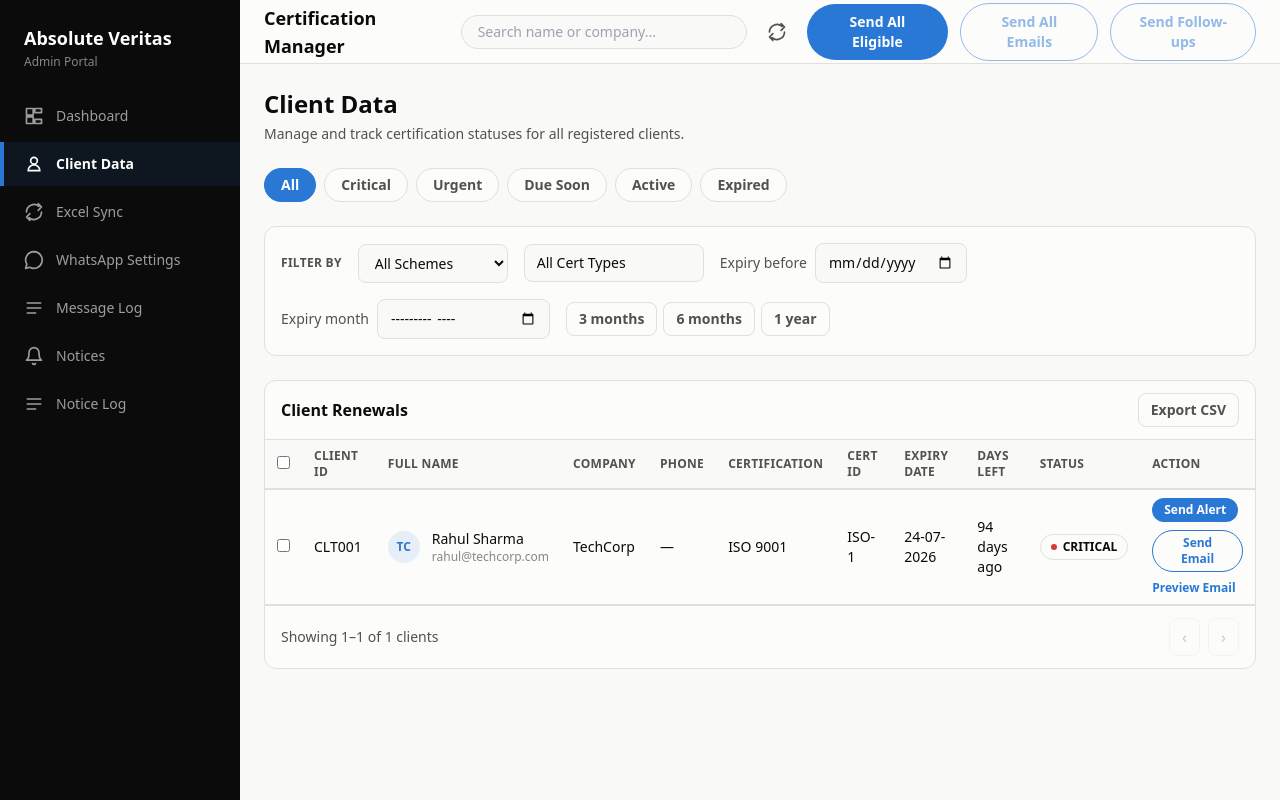
Scenario: App › sends selected clients and shows a summary toast after confirming
Expected: the text "Rahul Sharma" is shown, [432,529,524,548]
Click the checkbox named "Select Rahul Sharma".
click(284, 546)  # box [277,539,290,552]
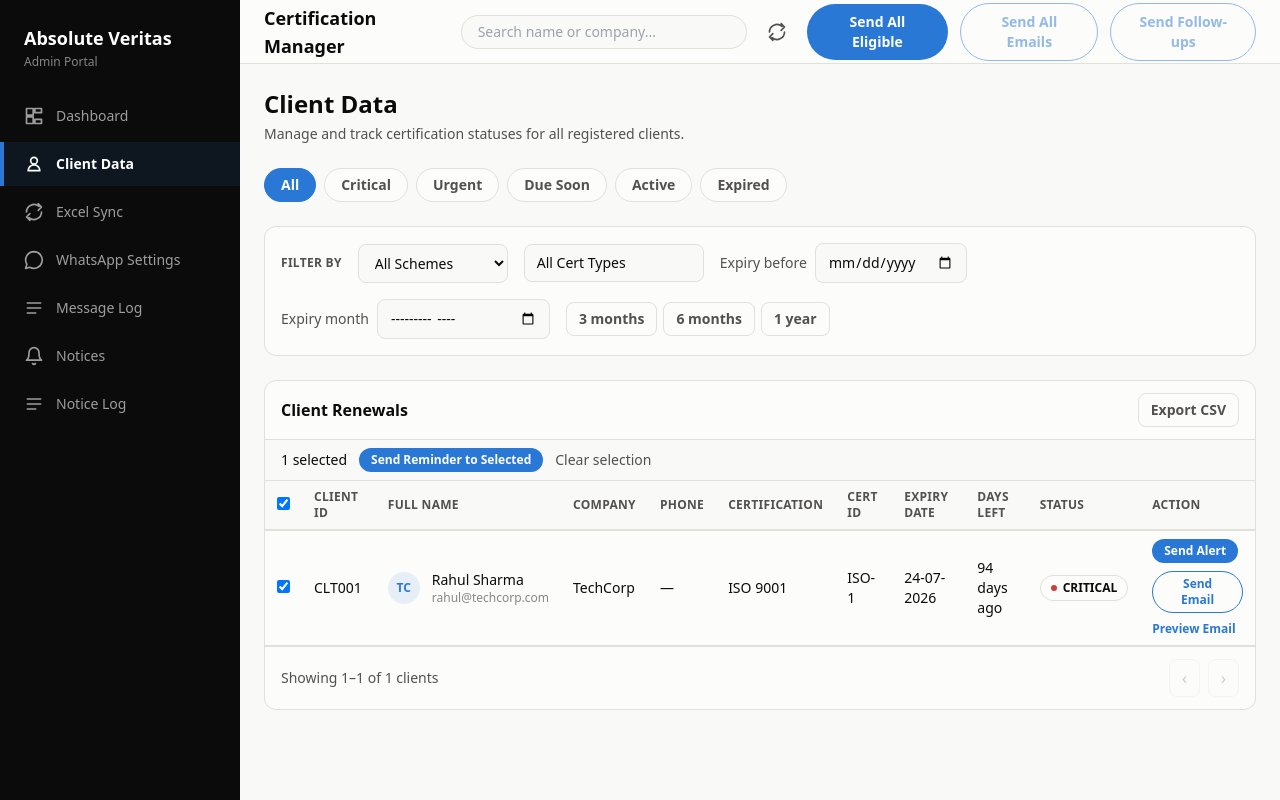
Click the button "Send Reminder to Selected".
click(451, 460)  # box [359,448,543,472]
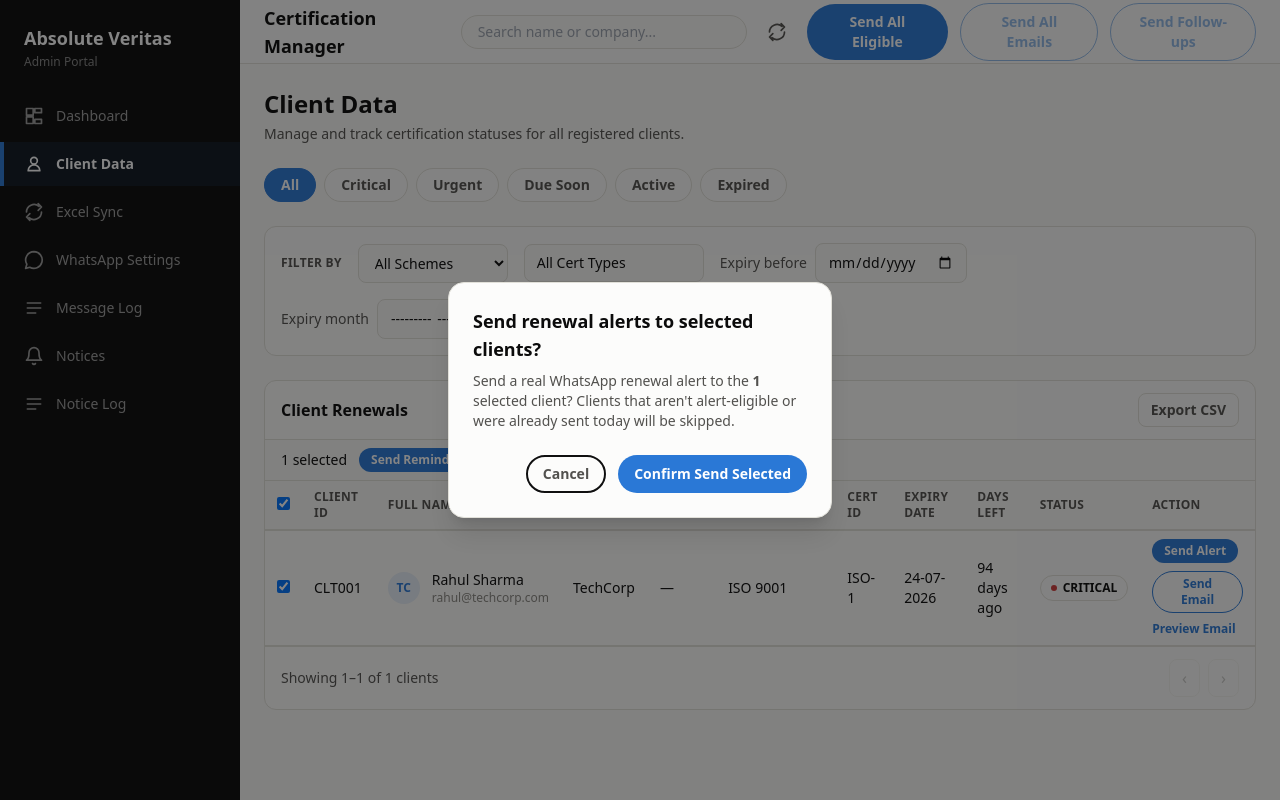
Click the button "Confirm Send Selected".
click(713, 474)  # box [618,455,807,493]
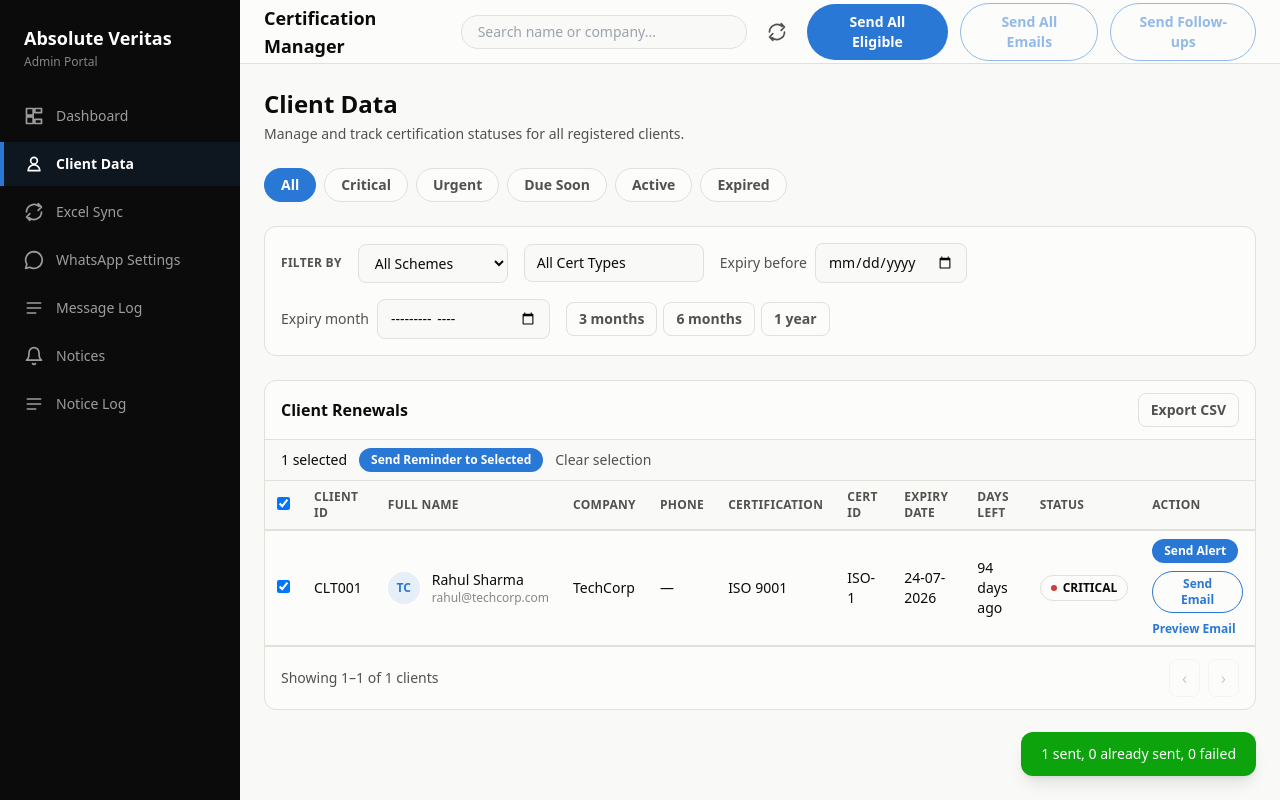
Now the text "1 sent, 0 already sent, 0 failed" is shown, box [1021,732,1256,776]
